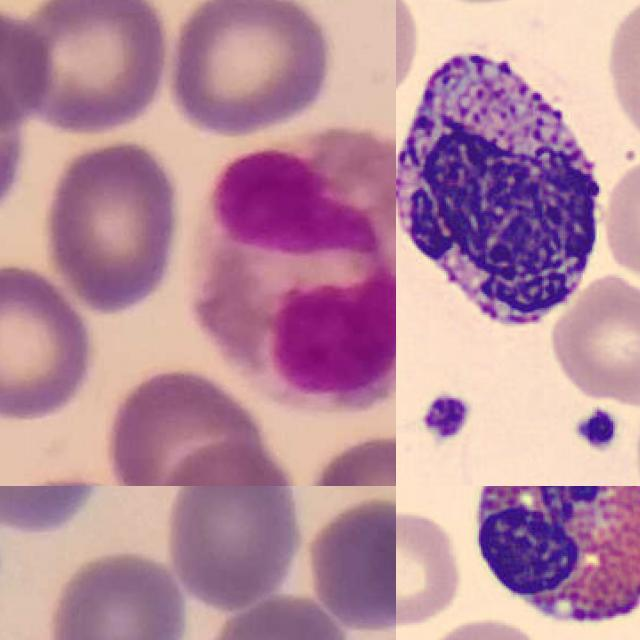Basophil: (396, 31, 615, 350)
Eosinophil: (187, 126, 396, 421), (457, 486, 640, 640)
Platelets: (420, 391, 477, 445), (570, 405, 622, 454)
RBC: (547, 272, 640, 406), (396, 507, 464, 632), (598, 147, 640, 288), (602, 0, 640, 147), (418, 614, 562, 640)
